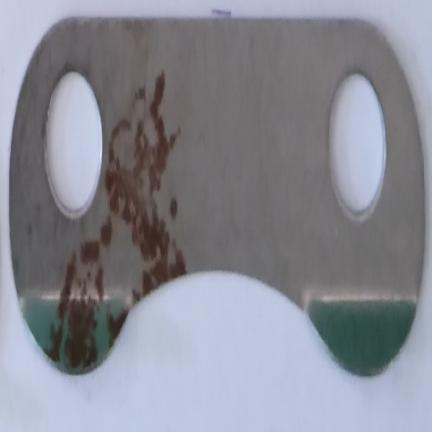besi_tidak_karat: (9, 19, 425, 374)
karat: (80, 70, 186, 345)
